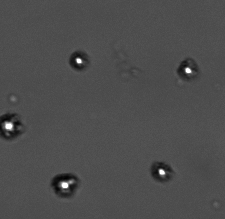Living Cell: (51, 174, 78, 197), (1, 114, 22, 139), (177, 59, 199, 80), (152, 161, 172, 181), (68, 51, 89, 68)
